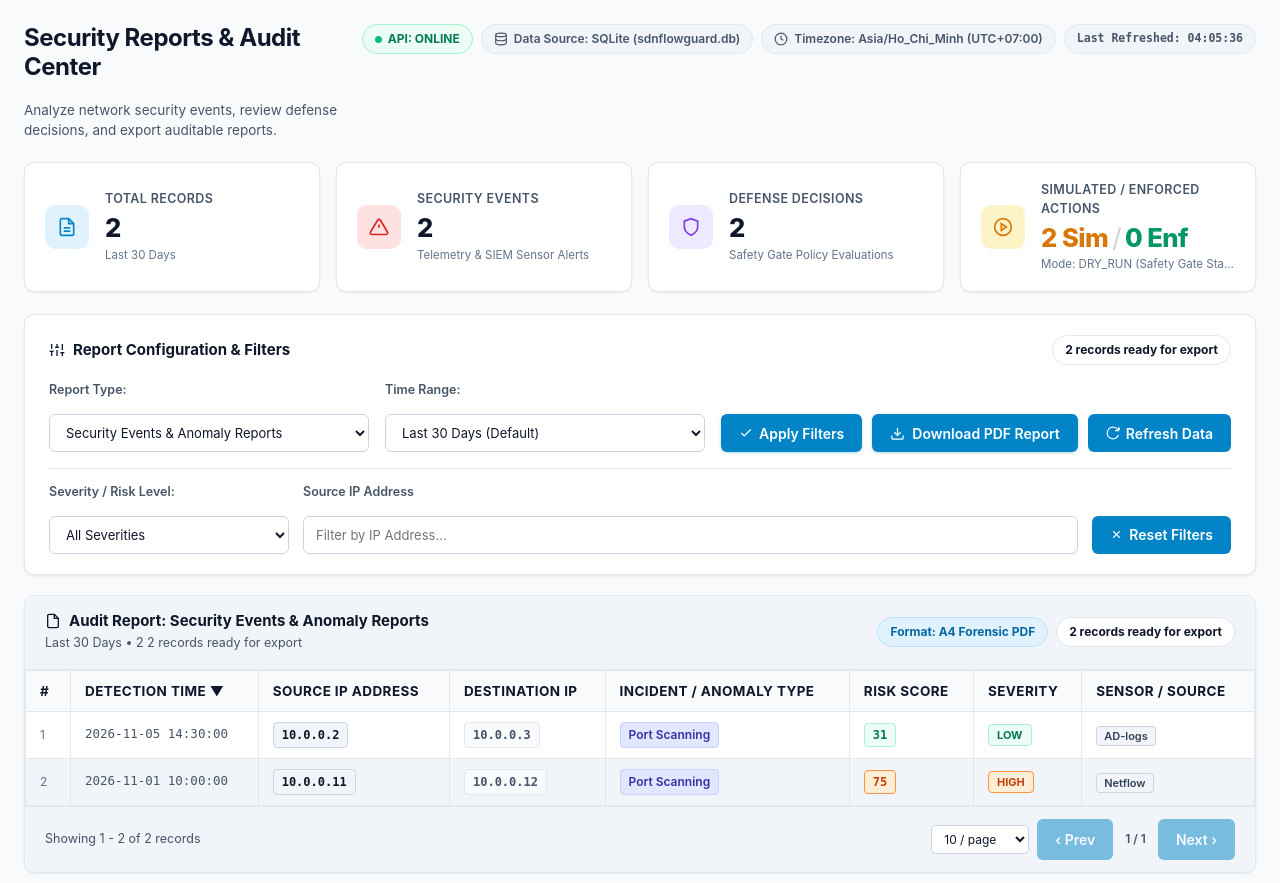
Test case: SOC Reporting & Audit Center Master Verification (V20) › triggers PDF export download cleanly
Expected: the text "10.0.0.2" is shown, [273, 722, 348, 748]
What coordinates should you click on to do the following:
click the button "Download PDF Report"
I would click on:
 (975, 433)
Its box is [872, 414, 1078, 452].
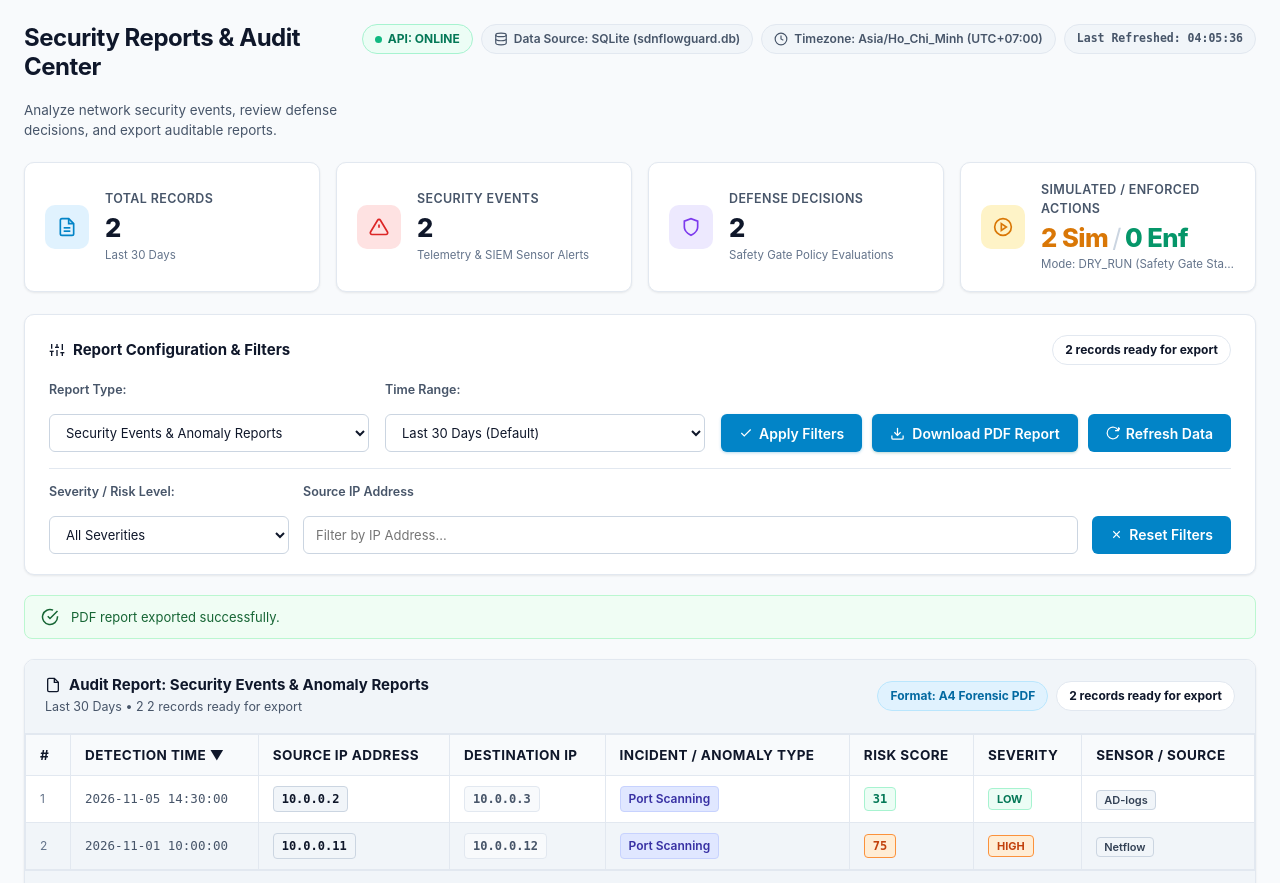
Result: the text "PDF report exported successfully." is shown at [71, 608, 280, 626]
